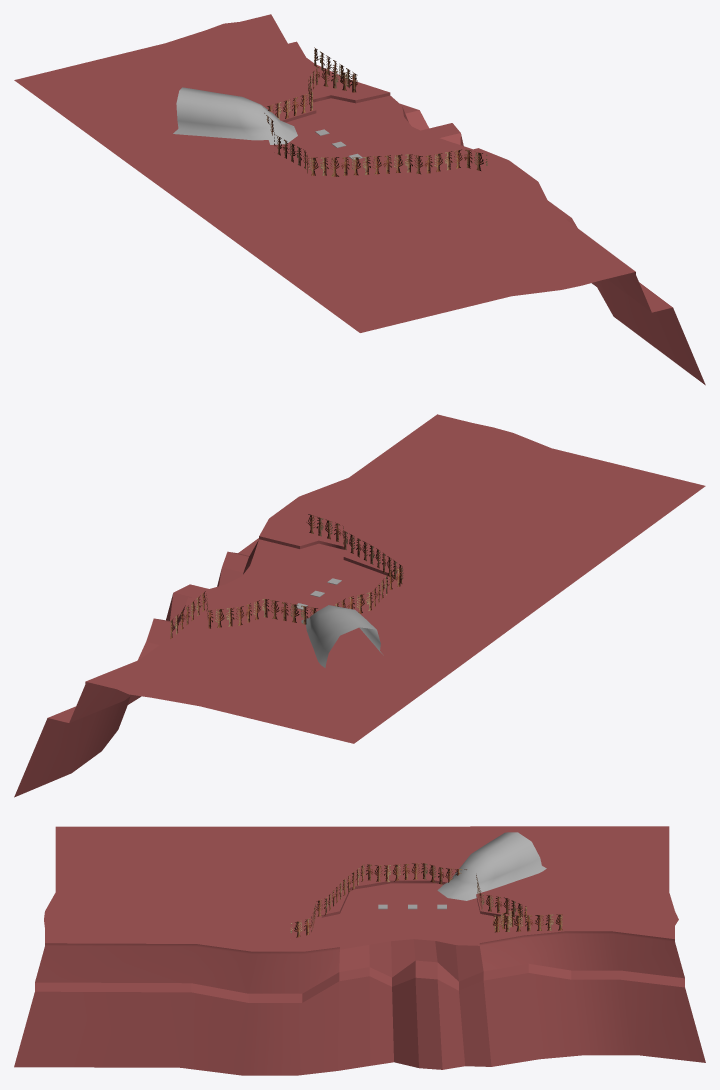
The model's file is NEW_N2_Shop.fbx.
3 renders of one model, top to bottom at view 1: azimuth 30°, elevation 25°; view 2: azimuth 150°, elevation 25°; view 3: azimuth 270°, elevation 25°, orthographic. The views are drawn at different scales.
Parts seen in each view (by area): view 1: Escenario, Arena, ArbolesPlanos; view 2: Escenario, ArbolesPlanos, Arena; view 3: Escenario, Arena, ArbolesPlanos.
Part boxes in pixels (bbox=[...]): Escenario: bbox=[14, 14, 705, 385]; Arena: bbox=[173, 87, 297, 144]; ArbolesPlanos: bbox=[264, 47, 487, 176]; Escenario: bbox=[14, 414, 705, 797]; ArbolesPlanos: bbox=[170, 514, 403, 639]; Arena: bbox=[301, 605, 383, 667]; Escenario: bbox=[14, 826, 705, 1075]; Arena: bbox=[437, 832, 546, 900]; ArbolesPlanos: bbox=[290, 863, 562, 937].
Size of what is drawn, in the model's own units: 119 by 48.52 by 234.
4 materials, 1 textured.
